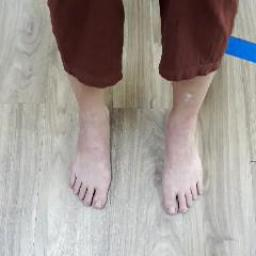Front View -Both Feet-: (53, 92, 220, 222)
